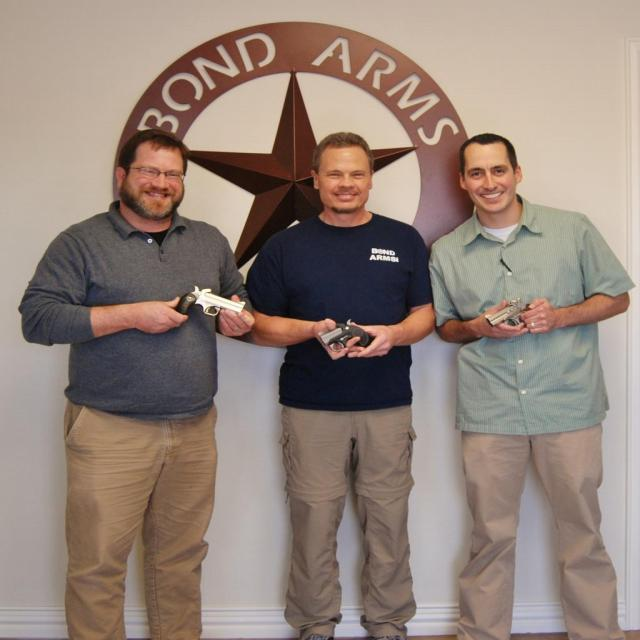nomask: (132, 150, 186, 216), (320, 143, 370, 210), (466, 146, 514, 207)
